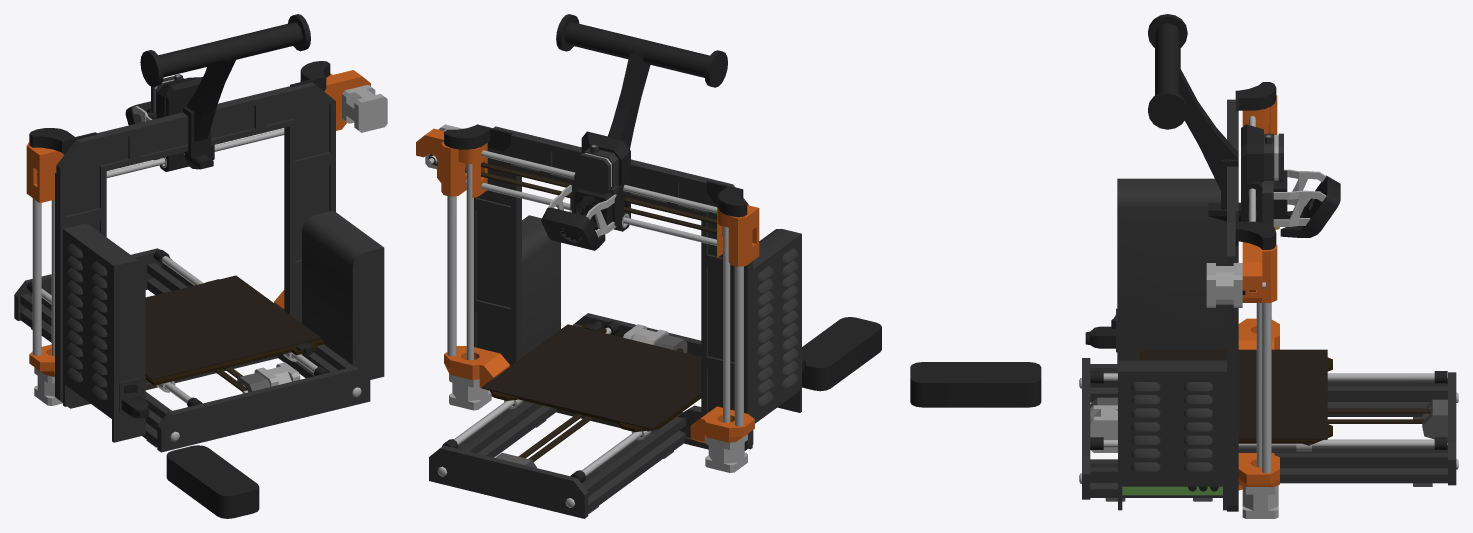
File: Prusa_MK4S_printer.fbx
3 views of the same model, side by side, from view 1: azimuth 30°, elevation 25°; view 2: azimuth 150°, elevation 25°; view 3: azimuth 270°, elevation 25° (orthographic). The views are drawn at different scales.
Visible parts, largest first — view 1: Prusa_MK4S_base, Prusa_MK4S_battery_closet, Prusa_MK4S_print_plate, Prusa_MK4S_computer_closet, Prusa_MK4S_spool_holder, Prusa_MK4S_battery_closet_adapter, Prusa_MK4S_x_axis_base, Prusa_MK4S_extruder_base, Prusa_MK4S_x_axis_rotor, Prusa_MK4S_print_bed, Prusa_MK4S_y_axis_rotor, Prusa_MK4S_z_axis_rotor_right (+2 smaller); view 2: Prusa_MK4S_base, Prusa_MK4S_print_plate, Prusa_MK4S_battery_closet, Prusa_MK4S_x_axis_base, Prusa_MK4S_spool_holder, Prusa_MK4S_extruder_base, Prusa_MK4S_computer_closet, Prusa_MK4S_battery_closet_adapter, Prusa_MK4S_x_axis_belt, Prusa_MK4S_z_axis_guide_left, Prusa_MK4S_z_axis_guide_right, Prusa_MK4S_z_axis_rotor_right (+5 smaller); view 3: Prusa_MK4S_base, Prusa_MK4S_battery_closet, Prusa_MK4S_computer_closet, Prusa_MK4S_print_plate, Prusa_MK4S_extruder_base, Prusa_MK4S_spool_holder, Prusa_MK4S_battery_closet_adapter, Prusa_MK4S_x_axis_base, Prusa_MK4S_x_axis_rotor, Prusa_MK4S_z_axis_rotor_left, Prusa_MK4S_y_axis_rotor, Prusa_MK4S_y_axis_belt (+2 smaller).
Part boxes in pixels (x1,y1,x2,y2): Prusa_MK4S_base: (14, 61, 370, 452); Prusa_MK4S_battery_closet: (63, 224, 145, 442); Prusa_MK4S_print_plate: (145, 275, 321, 380); Prusa_MK4S_computer_closet: (302, 210, 384, 379); Prusa_MK4S_spool_holder: (140, 14, 310, 158); Prusa_MK4S_battery_closet_adapter: (166, 445, 259, 518); Prusa_MK4S_x_axis_base: (26, 70, 370, 202); Prusa_MK4S_extruder_base: (125, 74, 214, 171); Prusa_MK4S_x_axis_rotor: (342, 85, 387, 132); Prusa_MK4S_print_bed: (145, 279, 323, 385); Prusa_MK4S_y_axis_rotor: (242, 362, 300, 393); Prusa_MK4S_z_axis_rotor_right: (34, 367, 62, 405); Prusa_MK4S_base: (429, 124, 754, 518); Prusa_MK4S_print_plate: (481, 324, 701, 429); Prusa_MK4S_battery_closet: (748, 229, 801, 449); Prusa_MK4S_x_axis_base: (416, 128, 759, 266); Prusa_MK4S_spool_holder: (556, 14, 727, 148); Prusa_MK4S_extruder_base: (541, 131, 630, 250); Prusa_MK4S_computer_closet: (522, 215, 560, 357); Prusa_MK4S_battery_closet_adapter: (802, 317, 881, 391); Prusa_MK4S_x_axis_belt: (428, 154, 752, 234); Prusa_MK4S_z_axis_guide_left: (466, 163, 473, 360); Prusa_MK4S_z_axis_guide_right: (723, 226, 730, 422); Prusa_MK4S_z_axis_rotor_right: (705, 434, 747, 472); Prusa_MK4S_base: (1079, 82, 1458, 511); Prusa_MK4S_battery_closet: (1116, 178, 1226, 363); Prusa_MK4S_computer_closet: (1118, 360, 1226, 510); Prusa_MK4S_print_plate: (1144, 349, 1327, 439); Prusa_MK4S_extruder_base: (1208, 124, 1340, 237); Prusa_MK4S_spool_holder: (1148, 14, 1238, 209); Prusa_MK4S_battery_closet_adapter: (910, 362, 1041, 407); Prusa_MK4S_x_axis_base: (1242, 95, 1277, 302); Prusa_MK4S_x_axis_rotor: (1206, 263, 1265, 307); Prusa_MK4S_z_axis_rotor_left: (1242, 485, 1278, 518); Prusa_MK4S_y_axis_rotor: (1090, 405, 1117, 452); Prusa_MK4S_y_axis_belt: (1327, 409, 1430, 423).
Size of the model in its own units: 0.5008 by 0.6686 by 0.5335.
